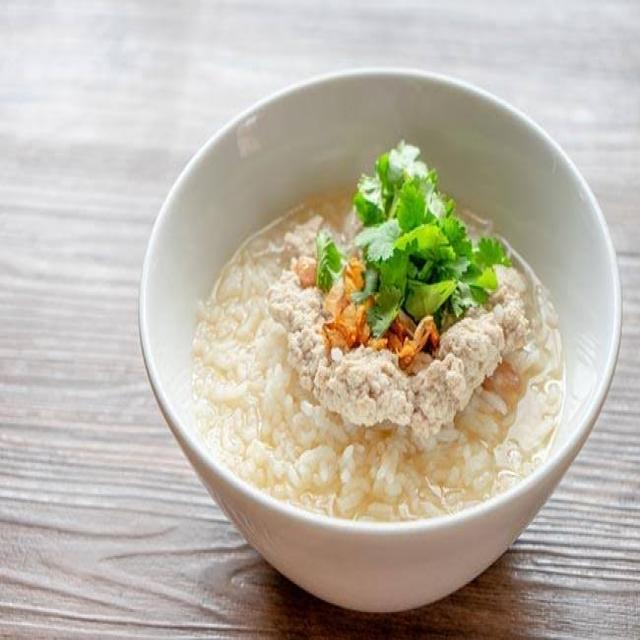carb: (288, 408, 512, 576), (199, 292, 304, 505)
meat: (278, 295, 520, 422)
rice porridge: (154, 138, 594, 554)
vegetable: (334, 150, 509, 332)
